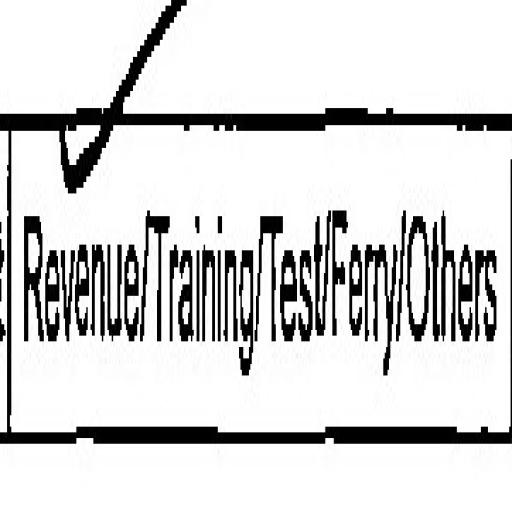check: (0, 17, 147, 512)
